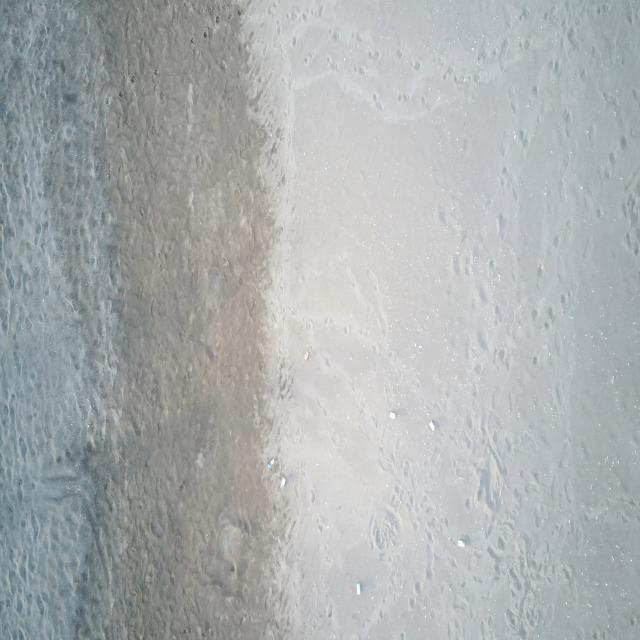Garbage: (427, 419, 435, 431), (267, 457, 275, 468), (456, 537, 464, 547), (387, 409, 395, 419), (280, 475, 286, 487), (355, 582, 360, 595), (303, 351, 310, 360)
